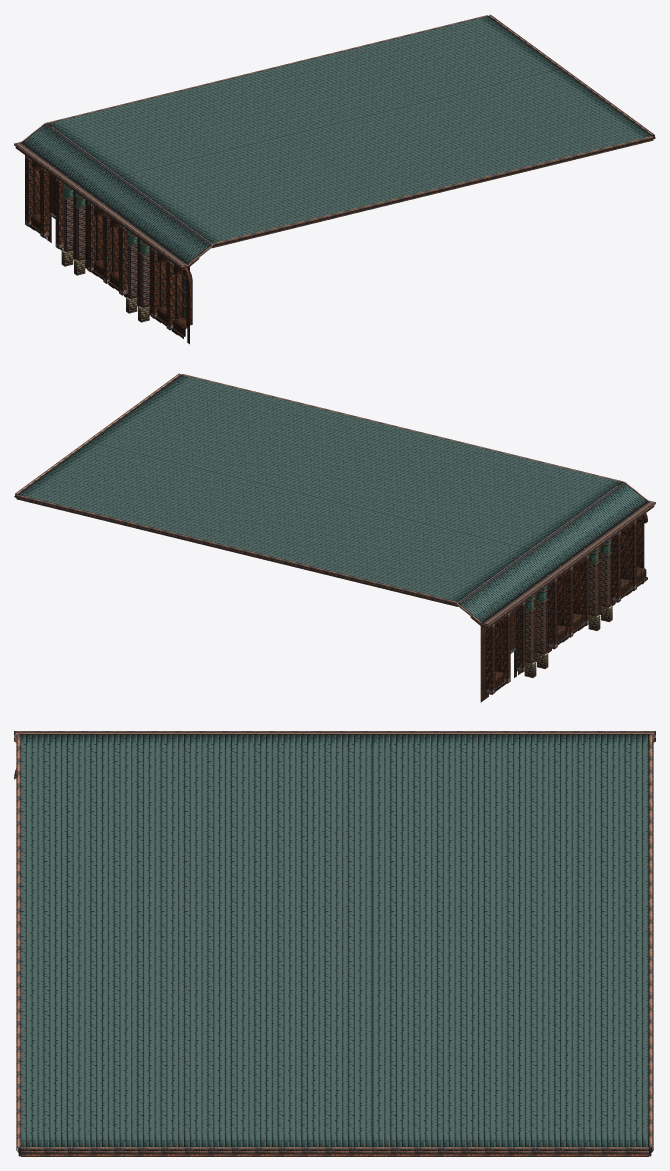
The model's file is EnvBdgMD_Factory_A_Outdoor_RoofTop_D_Front.FBX.
The picture shows the model from 3 angles, top to bottom: view 1: azimuth 30°, elevation 25°; view 2: azimuth 150°, elevation 25°; view 3: azimuth 270°, elevation 25°; orthographic projection. The views are drawn at different scales.
Visible parts, largest first — view 1: EnvBdgMD_Factory_A_Outdoor_RoofTop_D_Front; view 2: EnvBdgMD_Factory_A_Outdoor_RoofTop_D_Front; view 3: EnvBdgMD_Factory_A_Outdoor_RoofTop_D_Front.
Boxes of the visible parts, x1,y1,x2,y2 form: EnvBdgMD_Factory_A_Outdoor_RoofTop_D_Front: (14,14,655,344); EnvBdgMD_Factory_A_Outdoor_RoofTop_D_Front: (14,373,655,702); EnvBdgMD_Factory_A_Outdoor_RoofTop_D_Front: (14,731,655,1156).
Size of the model in its own units: 4503 by 922 by 2740.
